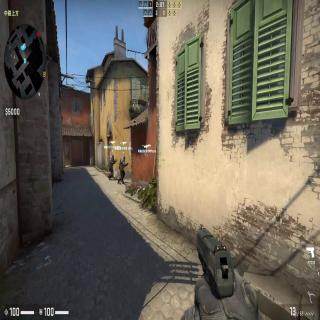CT-Body: (118, 153, 128, 184), (108, 153, 116, 179)
CT-Head: (122, 155, 126, 161), (111, 154, 115, 159)
